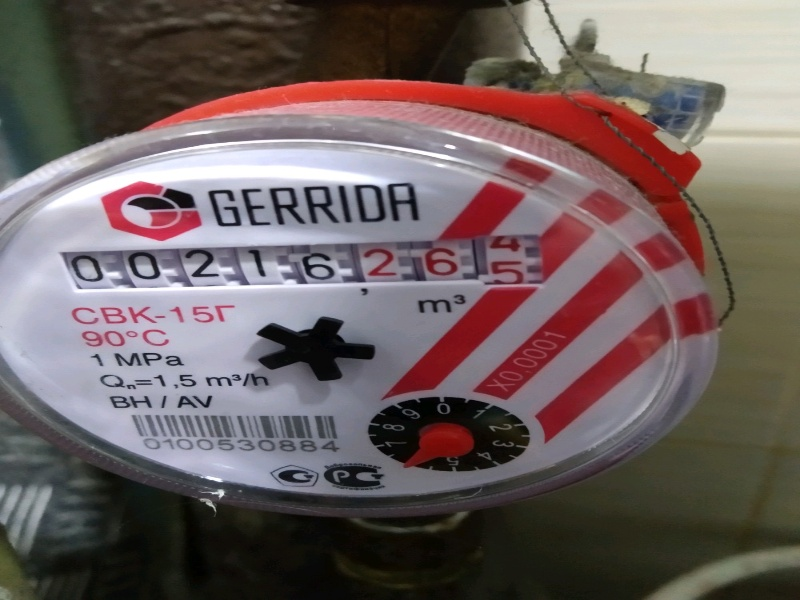meter: (43, 231, 571, 291)
